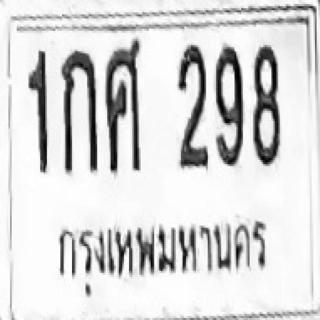A01: (60, 48, 97, 173)
A38: (104, 37, 141, 172), (104, 60, 142, 172)
N00: (214, 44, 243, 167)
N01: (26, 49, 48, 170), (26, 49, 48, 160)
N02: (176, 49, 208, 168)
N08: (251, 43, 280, 166)
N09: (214, 44, 243, 167)
P04: (51, 215, 269, 284)
